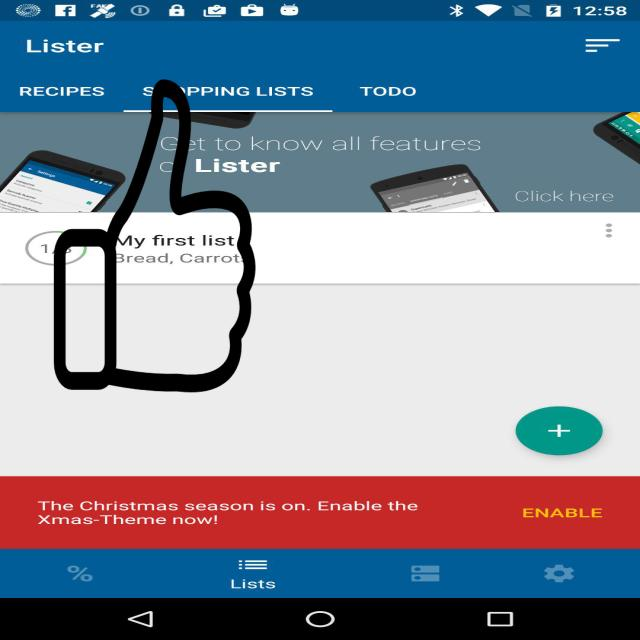privacy zuckering: (51, 80, 258, 392)
